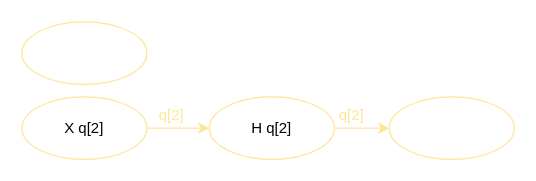
The diagram is 536 pixels wide and 181 high, and some of its shapes have lost their labels. The shapes that lost their labels are listed below. From the top down, each one's centre as x and y in pixels, then its label:
the point at 84,52: Y q[0]
the point at 451,127: CNOT q[2],q[1]
